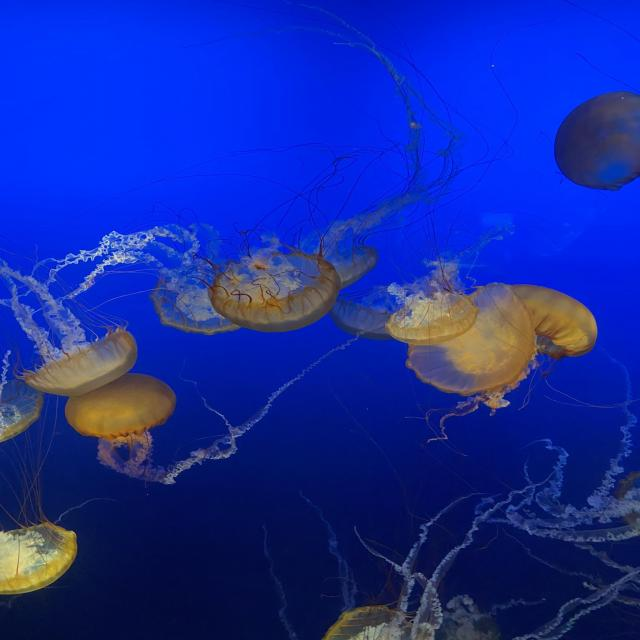jellyfish: (398, 279, 535, 396), (212, 246, 342, 332), (554, 89, 640, 191), (20, 326, 138, 397), (151, 262, 256, 336), (503, 282, 598, 361), (61, 376, 177, 439), (0, 506, 78, 594), (386, 292, 478, 344), (320, 604, 438, 640), (324, 297, 404, 342), (315, 238, 383, 289), (0, 381, 45, 451)
